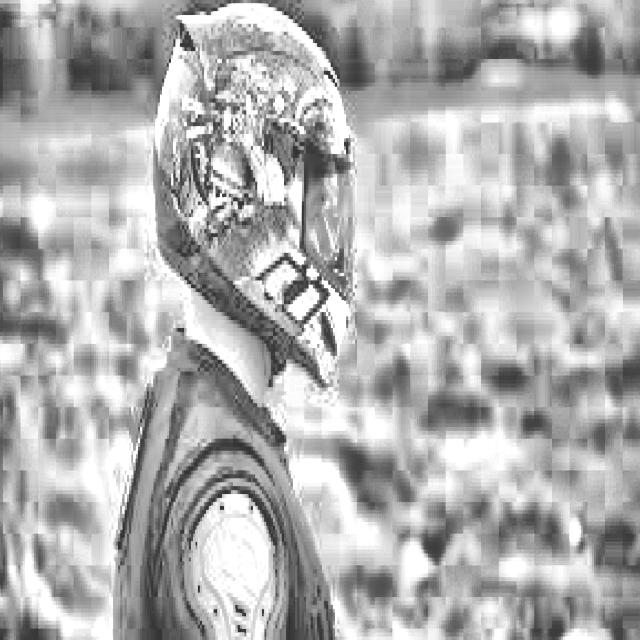Helmet: (154, 0, 352, 411)
